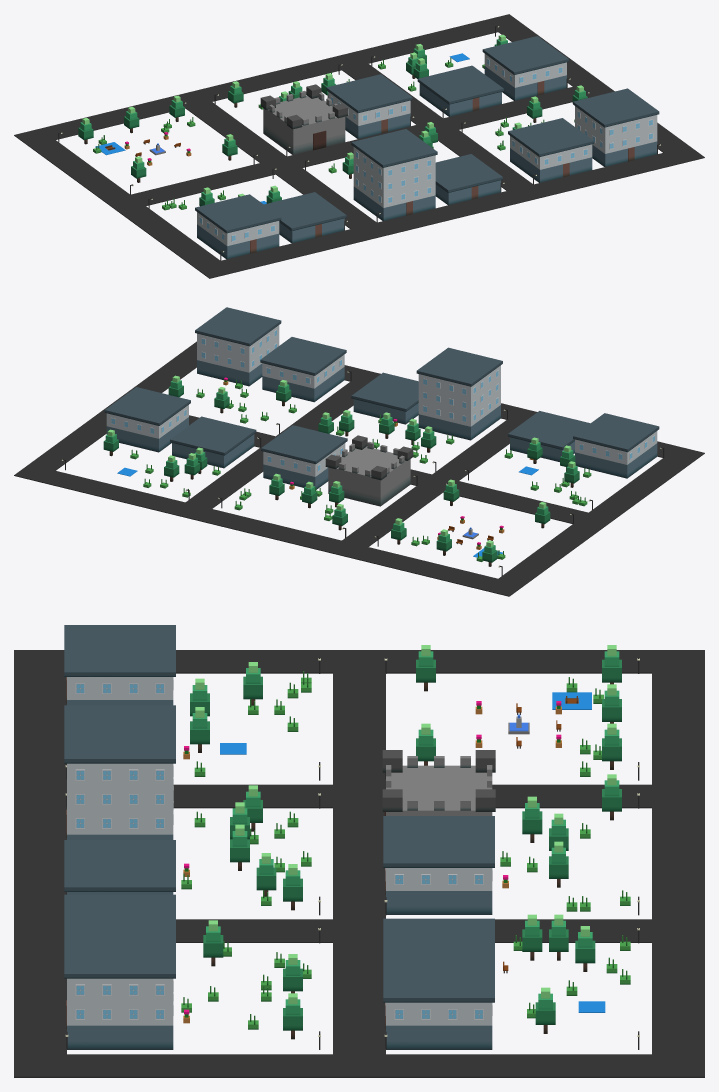
File: town.glb
3 renders of one model, top to bottom at view 1: azimuth 30°, elevation 25°; view 2: azimuth 150°, elevation 25°; view 3: azimuth 270°, elevation 25°, orthographic. The views are drawn at different scales.
Visible parts, largest first — view 1: cube_shaded (×19), cube (×41); view 2: cube_shaded (×19), cube (×6); view 3: cube (×91), cube_shaded (×13).
Boxes of the visible parts, x1=… form: cube_shaded (×19): x1=195, y1=36, x2=659, y2=259; cube (×41): x1=44, y1=20, x2=704, y2=278; cube_shaded (×19): x1=104, y1=307, x2=659, y2=506; cube (×6): x1=106, y1=325, x2=657, y2=476; cube (×91): x1=14, y1=650, x2=704, y2=1077; cube_shaded (×13): x1=64, y1=625, x2=494, y2=1049.
Size of what is drawn, in the model's own units: 76 by 8.45 by 52.
26 materials, 26 textured.
